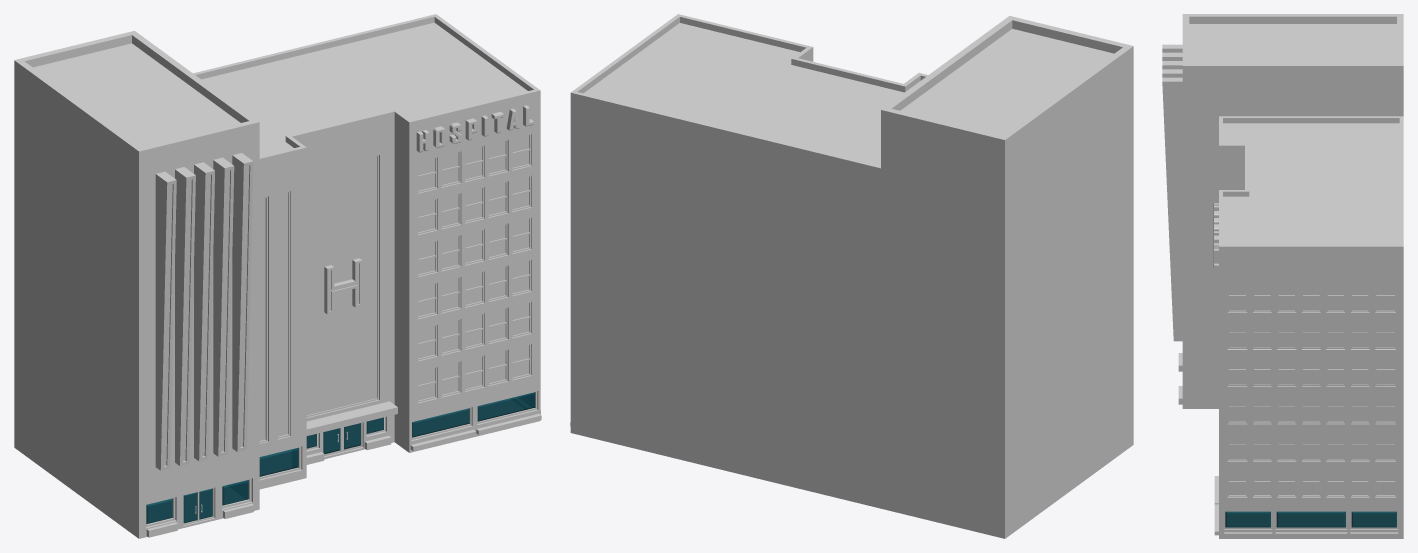
Rendered from hospital.fbx.
3 views of the same model, side by side, from view 1: azimuth 30°, elevation 25°; view 2: azimuth 150°, elevation 25°; view 3: azimuth 270°, elevation 25° (orthographic). The views are drawn at different scales.
Parts seen in each view (by area): view 1: hospital, hospital_glass; view 2: hospital; view 3: hospital, hospital_glass.
Part boxes in pixels (<box>): hospital: <box>14,14,541,538</box>; hospital_glass: <box>146,392,534,524</box>; hospital: <box>570,14,1133,538</box>; hospital: <box>1162,14,1403,538</box>; hospital_glass: <box>1225,511,1396,527</box>.
Bounding box in the file's own units: 4233 × 3685 × 2352.
